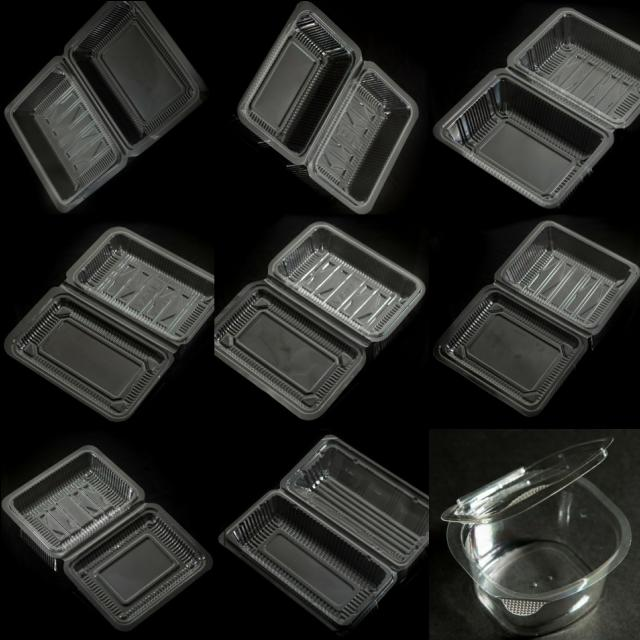plastik: (4, 0, 205, 211), (214, 221, 424, 419), (433, 7, 640, 207), (219, 435, 428, 631), (4, 226, 212, 420), (433, 220, 639, 415), (1, 445, 211, 629), (236, 1, 416, 212), (440, 436, 630, 635)
